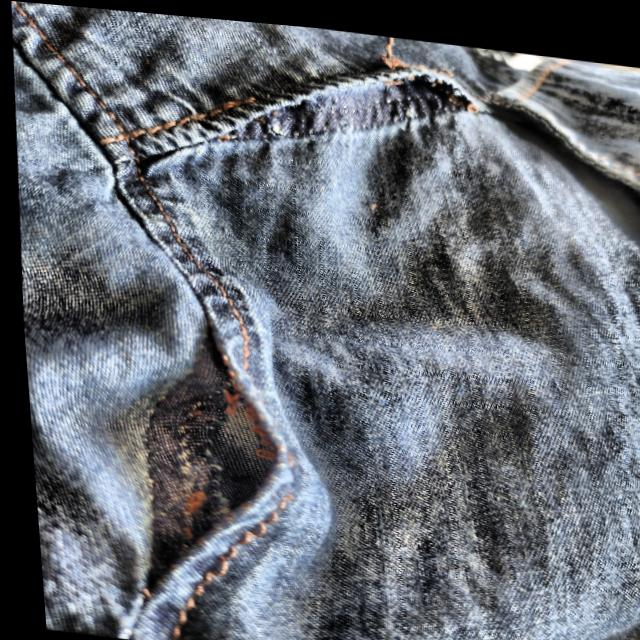seam: (65, 306, 302, 624), (178, 28, 491, 186)
